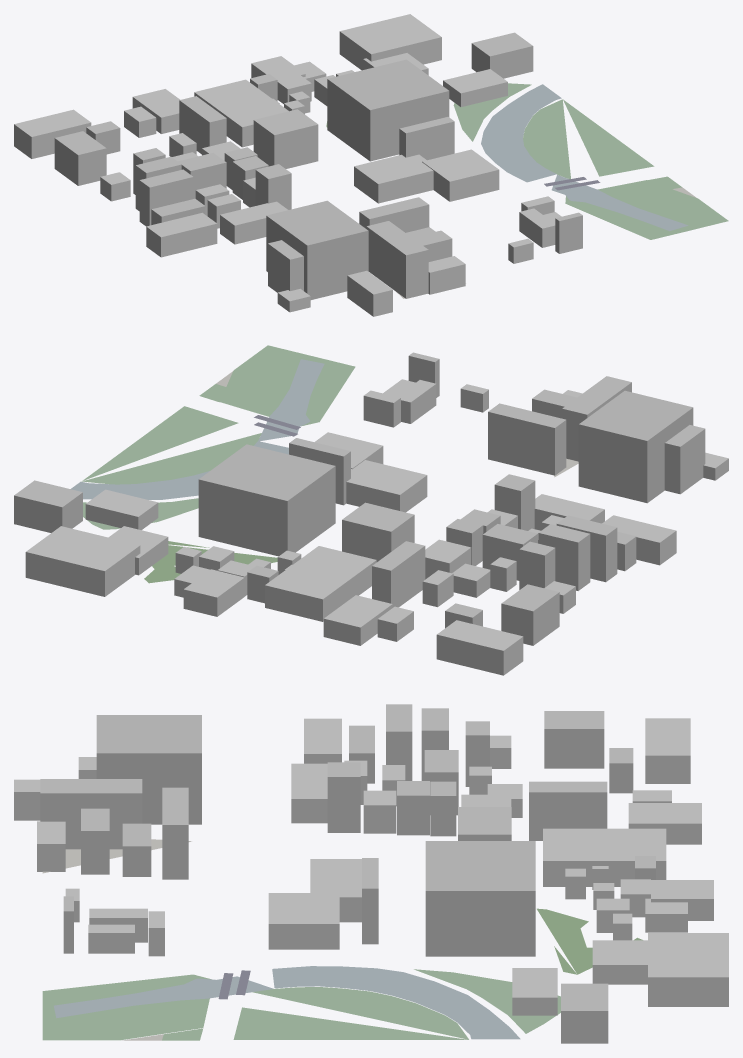
File: 116_112_mid.glb
3 views of the same model, one above another, from view 1: azimuth 30°, elevation 25°; view 2: azimuth 150°, elevation 25°; view 3: azimuth 270°, elevation 25° (orthographic). The views are drawn at different scales.
Size of the model in its own units: 534 by 62.81 by 546.
